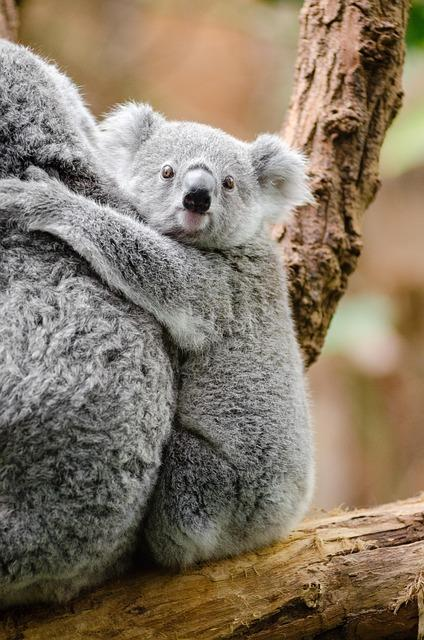Non_Gorille: (0, 5, 424, 640)
